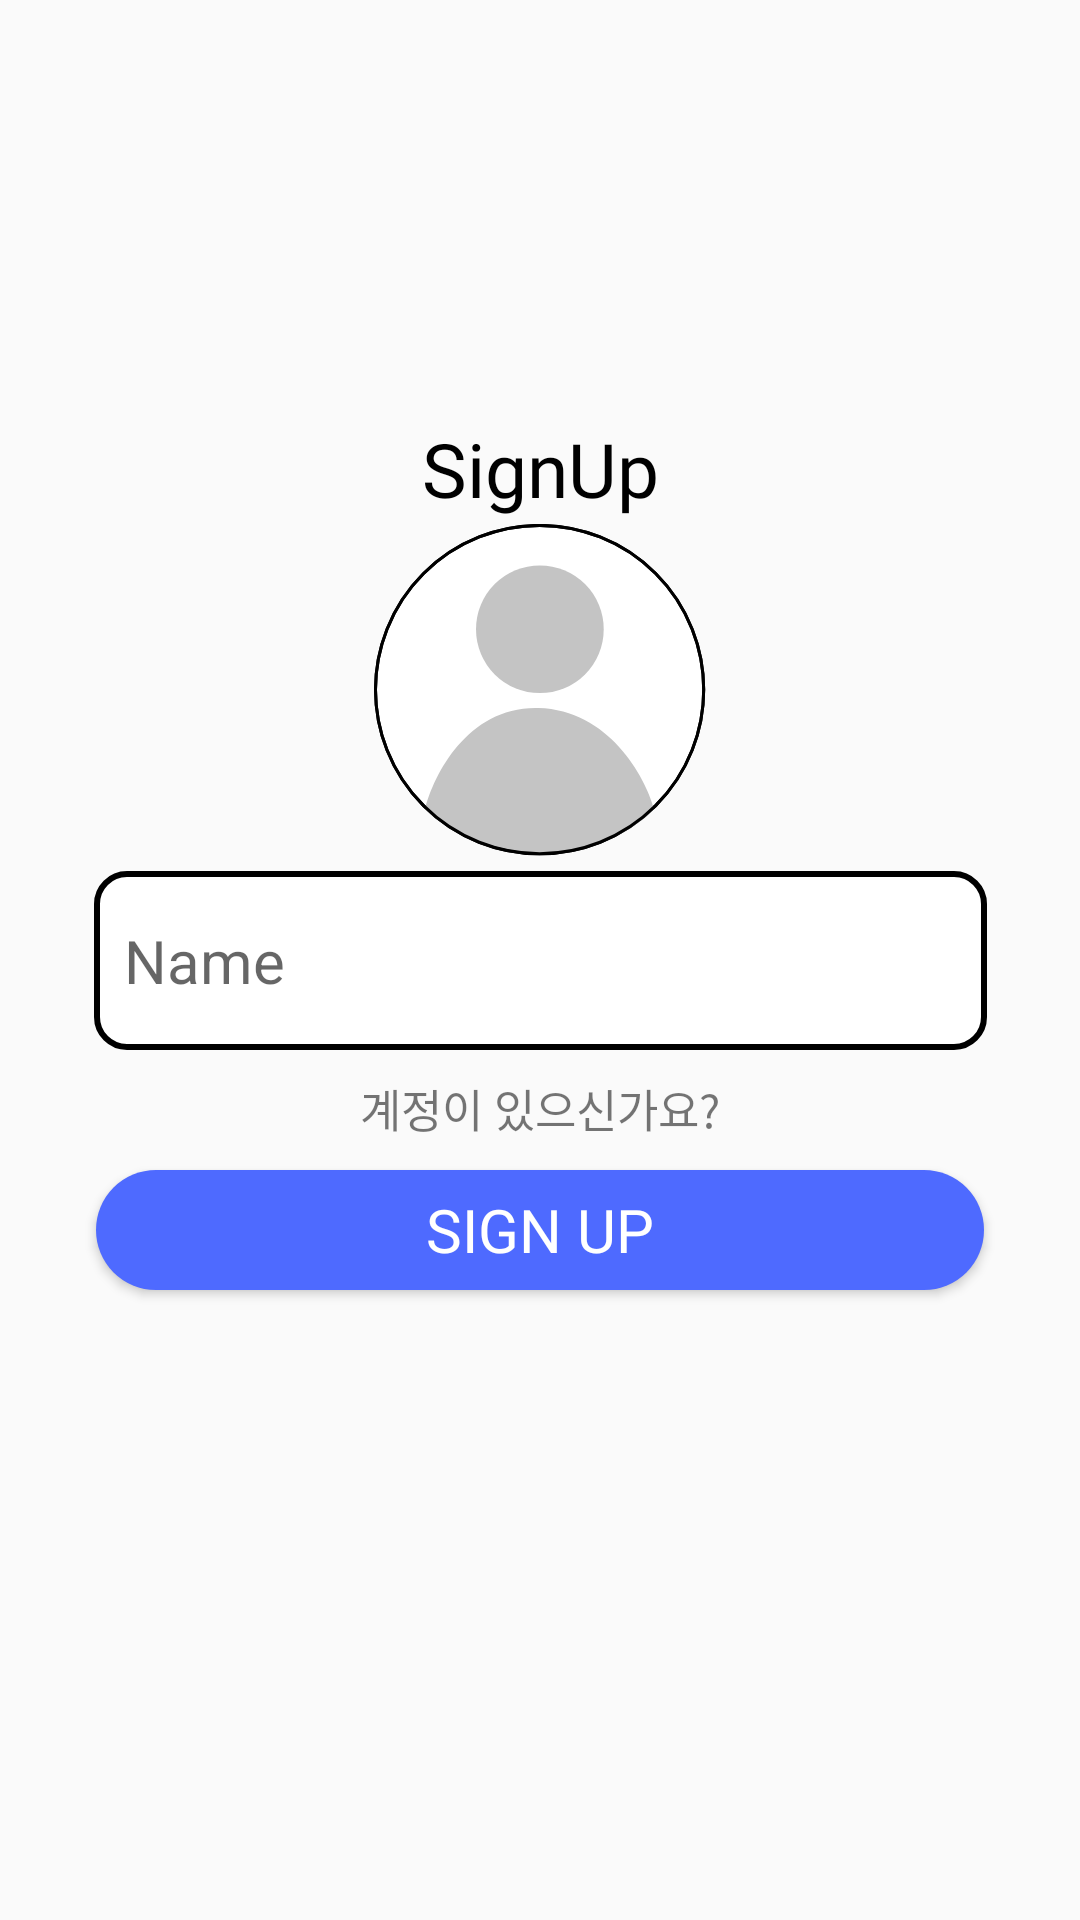

Screen size 1080w x 1920h. Icon name, then its box in pixels as (x1, y1, x2, y2):
defalut profile: (374, 524, 706, 856)
